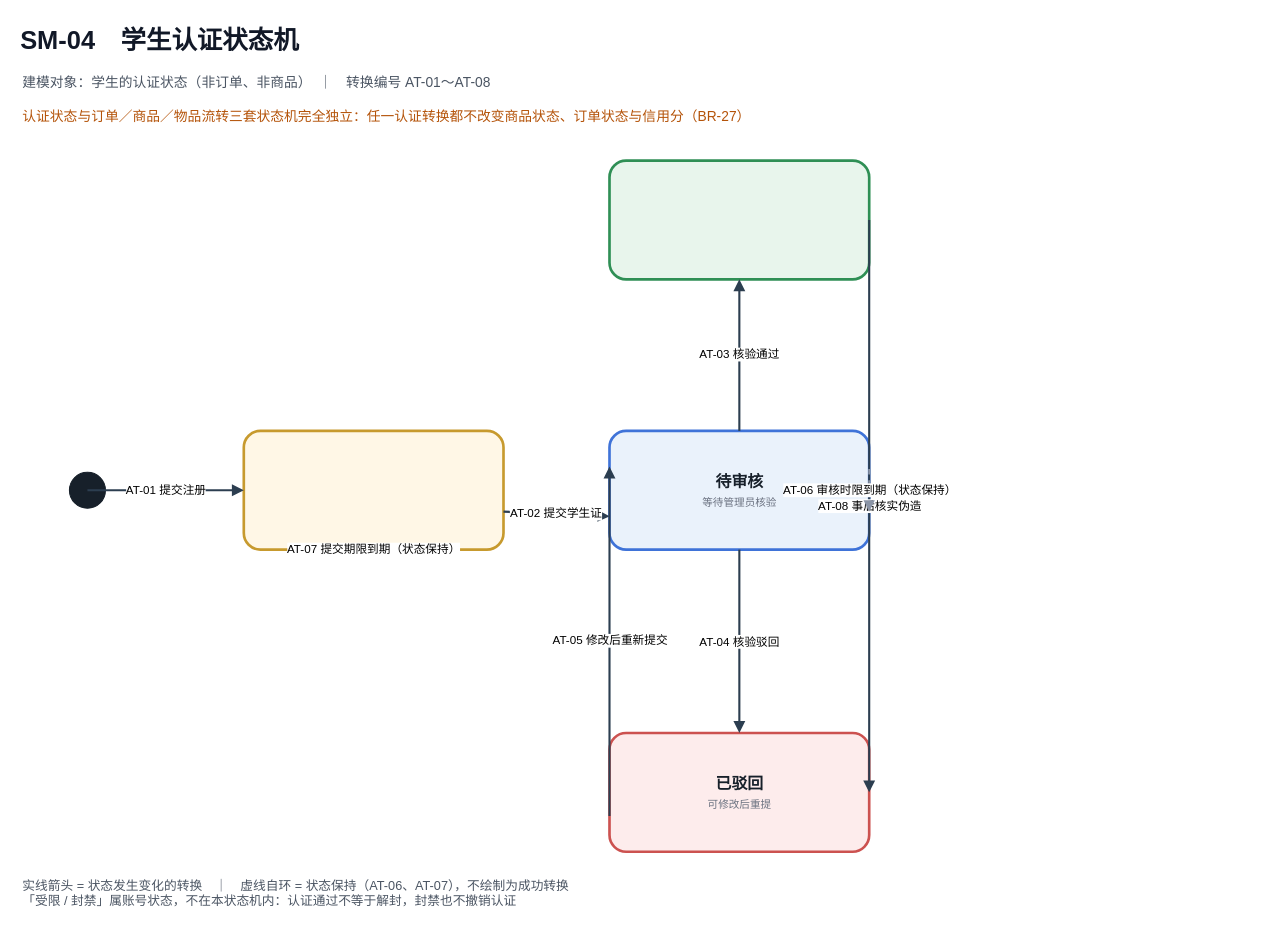
The diagram is 1268 pixels wide and 949 high, and some of its shapes have lost their labels. Each missing label, with the box of its shape:
已认证 可发布 · 可下单: (608, 159, 870, 280)
未提交 可浏览 · 不可交易: (242, 429, 504, 550)
